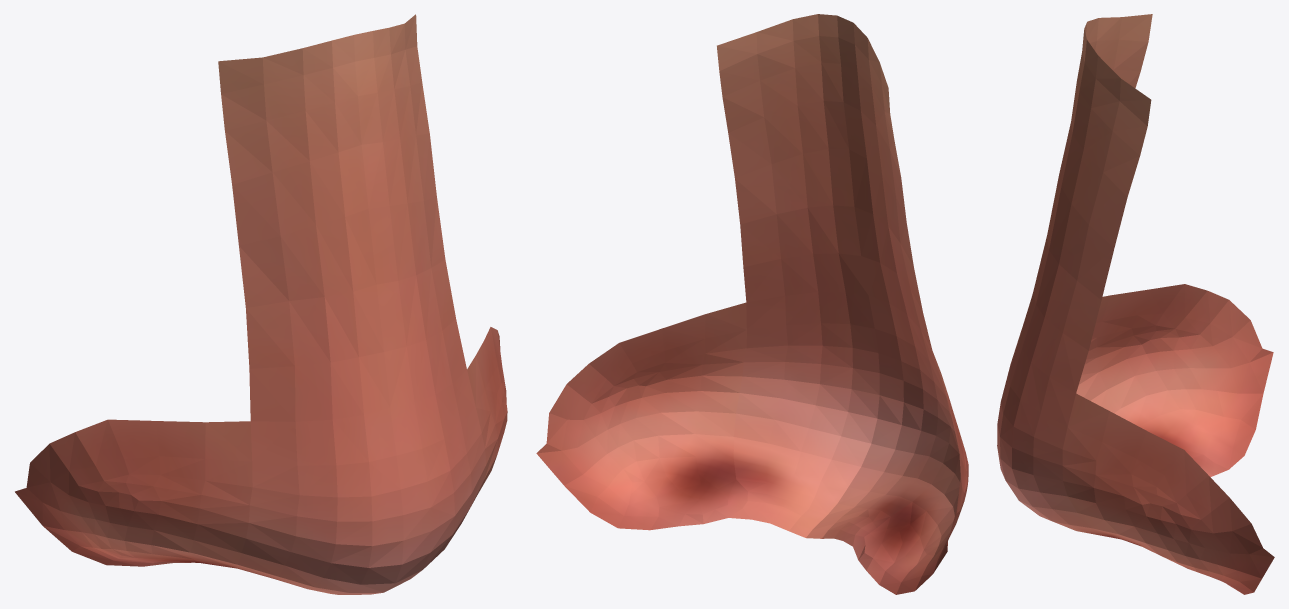
File: euro-nose-short.obj
The picture shows the model from 3 angles, left to right: view 1: azimuth 30°, elevation 25°; view 2: azimuth 150°, elevation 25°; view 3: azimuth 270°, elevation 25°; orthographic projection. The views are drawn at different scales.
Parts seen in each view (by area): view 1: euro-nose-short.001; view 2: euro-nose-short.001; view 3: euro-nose-short.001.
Boxes of the visible parts, left/top/right/bottom form: euro-nose-short.001: left=15, top=14, right=507, bottom=594; euro-nose-short.001: left=536, top=14, right=968, bottom=594; euro-nose-short.001: left=997, top=14, right=1274, bottom=594.
Bounding box in the file's own units: 0.2148 × 0.2499 × 0.1239.
Materials: 1 (1 with a texture image).
